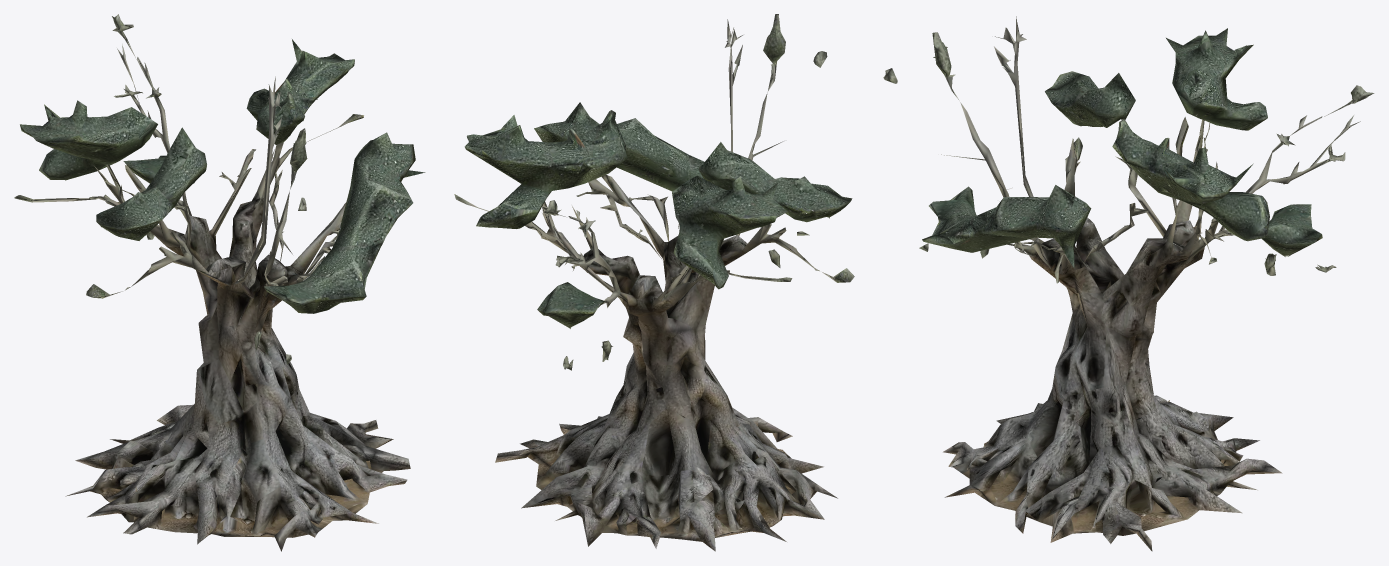
Rendered from olive.glb.
3 renders of one model, left to right at view 1: azimuth 30°, elevation 25°; view 2: azimuth 150°, elevation 25°; view 3: azimuth 270°, elevation 25°, orthographic. The views are drawn at different scales.
Visible parts, largest first — view 1: tripo_node_ca662986-6f19-43ca-993e-8ff9eb6b7244; view 2: tripo_node_ca662986-6f19-43ca-993e-8ff9eb6b7244; view 3: tripo_node_ca662986-6f19-43ca-993e-8ff9eb6b7244.
Part boxes in pixels (x1,y1,x2,y2): tripo_node_ca662986-6f19-43ca-993e-8ff9eb6b7244: (14,14,425,551); tripo_node_ca662986-6f19-43ca-993e-8ff9eb6b7244: (454,14,854,551); tripo_node_ca662986-6f19-43ca-993e-8ff9eb6b7244: (883,16,1374,551).
Bounding box in the file's own units: 0.8109 × 0.9974 × 0.9778.
1 material, 1 textured.
